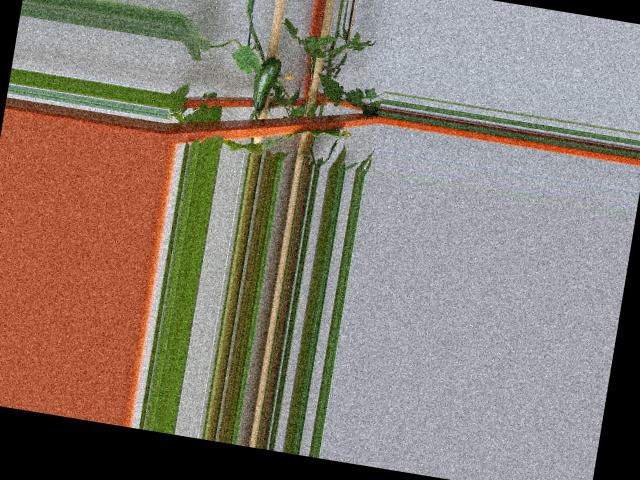cucumber: (250, 49, 283, 113)
